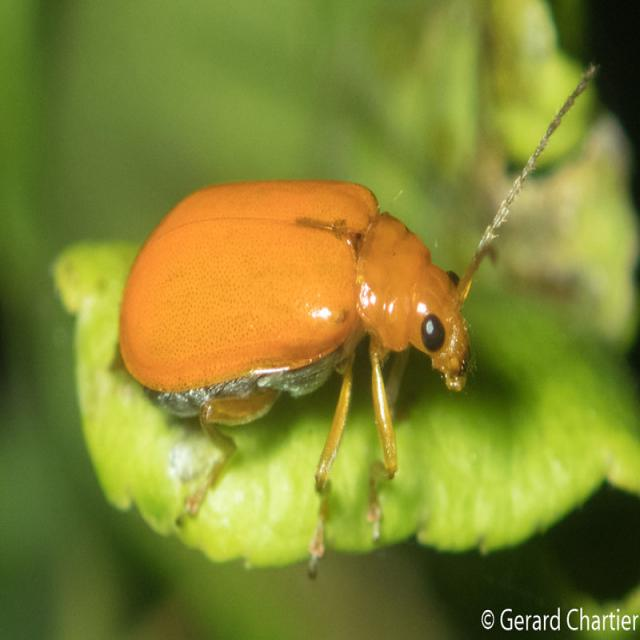Pumpkin Beetle: (99, 51, 601, 585)
